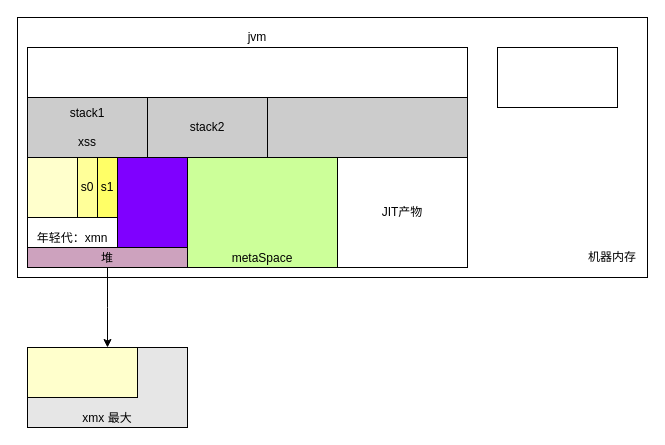
Some shapes in this 665 by 445 pixel diagram are drawn without their labels. The centre of each missing label's shape, as x and y in pixels:
directMemory: the point at 557,77
Eden: the point at 52,187
stack..n: the point at 367,127
xms启动时: the point at 82,372
老年代: the point at 152,202
